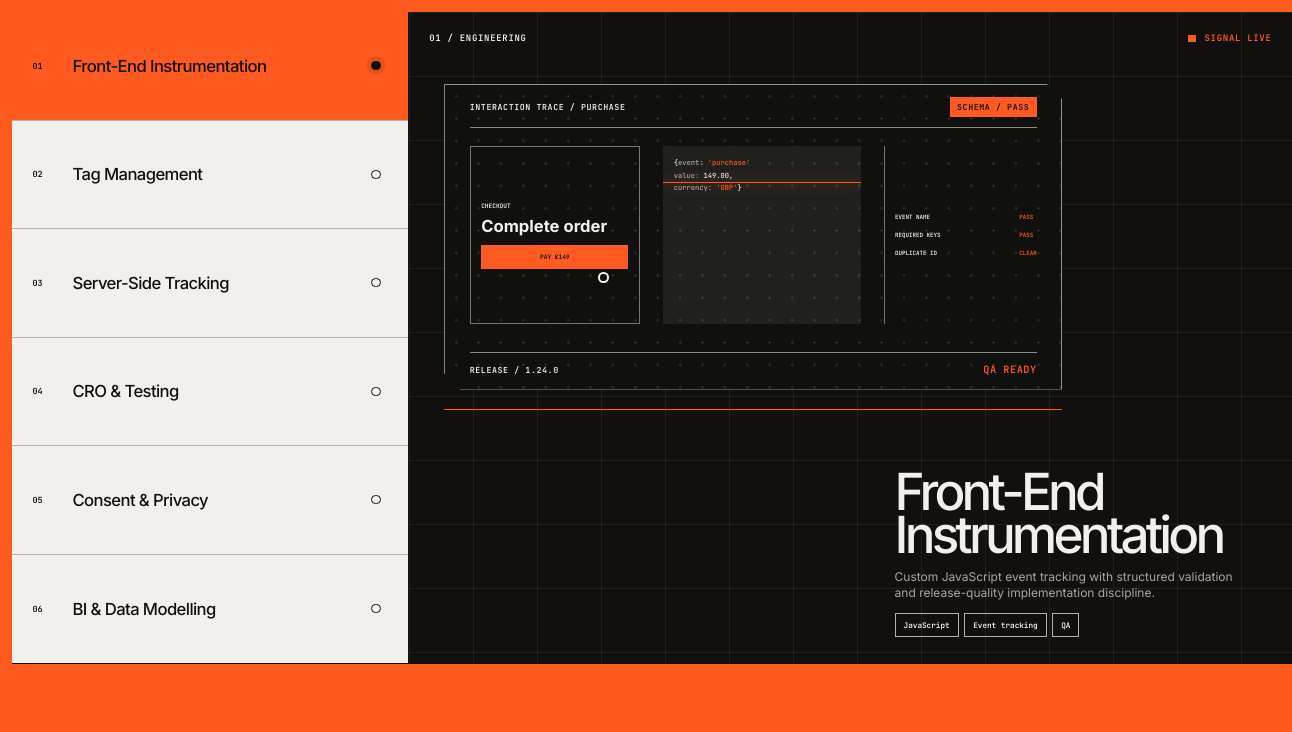
Test: retains the outgoing composition for the established 480ms transition
Click the tab "02 Tag Management".
click(137, 174)  # box [12, 120, 408, 229]
Wait 480 ms
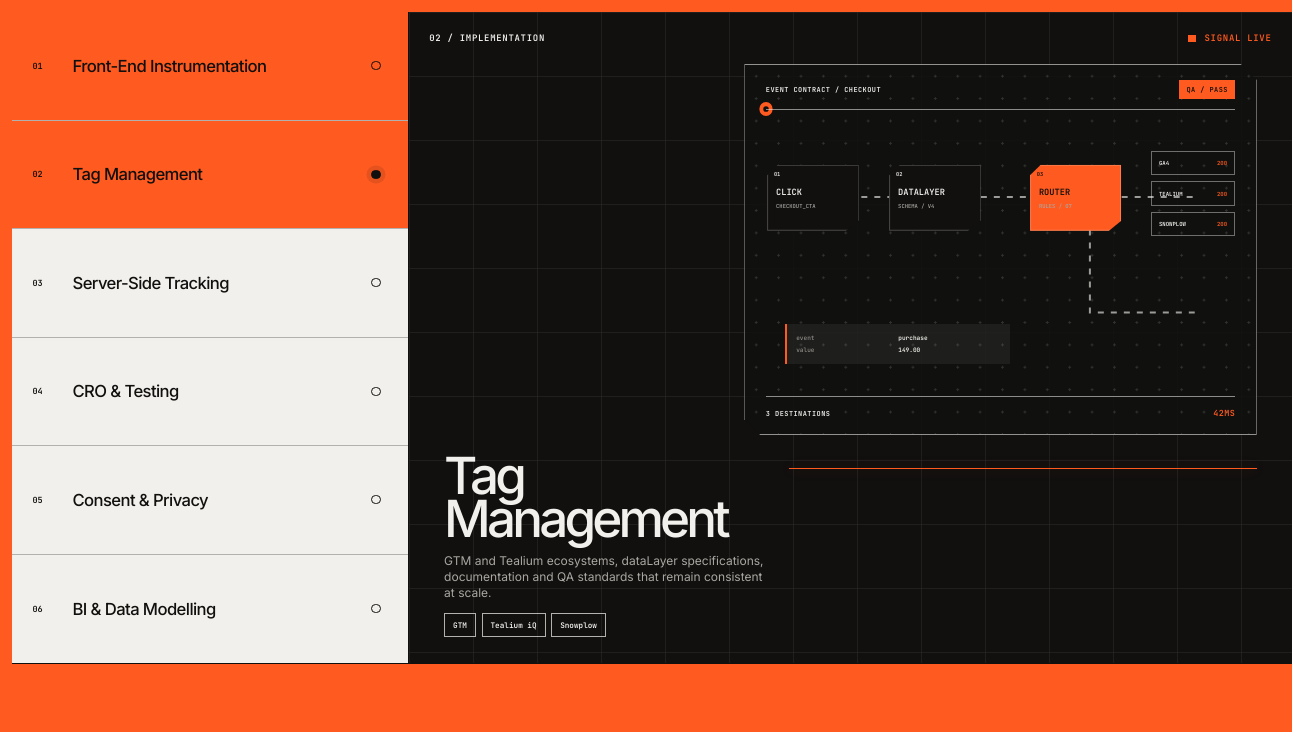
expect the panel shows "Tag Management": met, box [444, 444, 727, 549]
